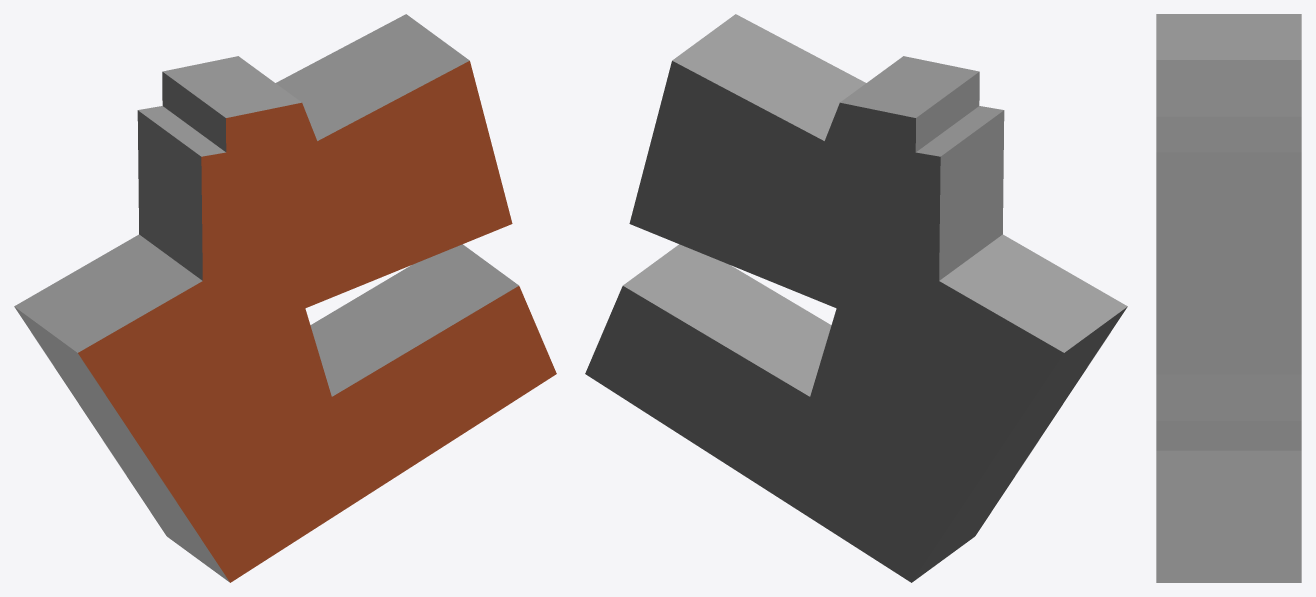
Rendered from construction_3885_assumed_A_Casa_h6m.obj.
3 renders of one model, left to right at view 1: azimuth 30°, elevation 25°; view 2: azimuth 150°, elevation 25°; view 3: azimuth 270°, elevation 25°, orthographic. The views are drawn at different scales.
Visible parts, largest first — view 1: construction_3885_assumed_A_Casa; view 2: construction_3885_assumed_A_Casa; view 3: construction_3885_assumed_A_Casa.
Part boxes in pixels (box(x1,y1,x2,y2)): construction_3885_assumed_A_Casa: box(14, 14, 556, 582); construction_3885_assumed_A_Casa: box(585, 14, 1127, 582); construction_3885_assumed_A_Casa: box(1156, 14, 1301, 582).
Bounding box in the file's own units: 26.06 × 24.22 × 6.
